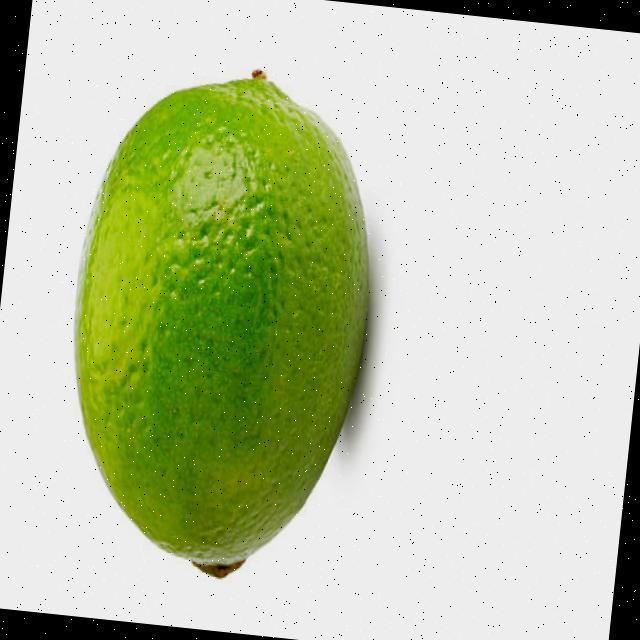Unripe: (46, 57, 391, 590)
